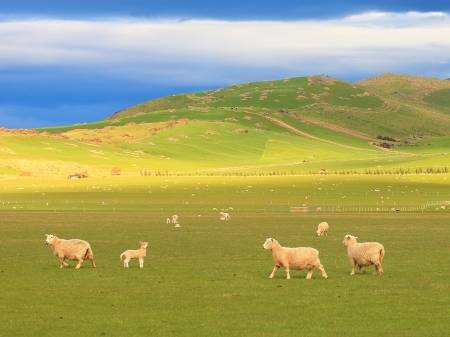sheep: (261, 233, 332, 283), (42, 231, 96, 271), (340, 233, 389, 277), (119, 240, 149, 269), (313, 220, 331, 238), (217, 209, 230, 220), (170, 214, 179, 226)
